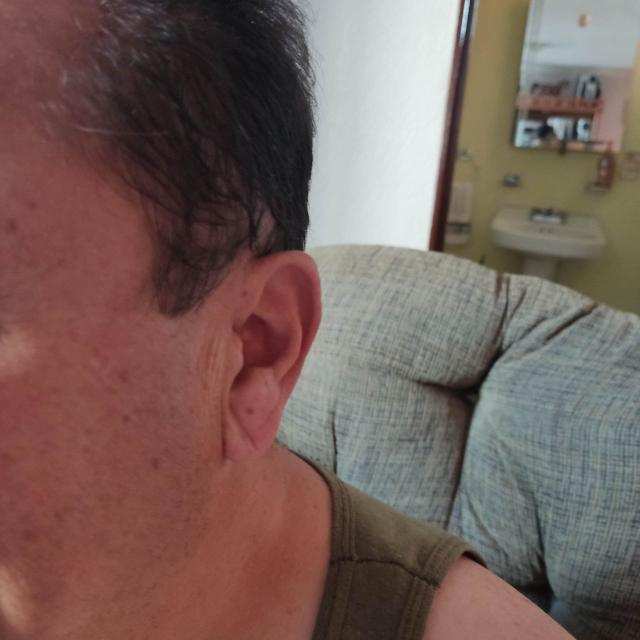ear: (223, 251, 321, 461)
